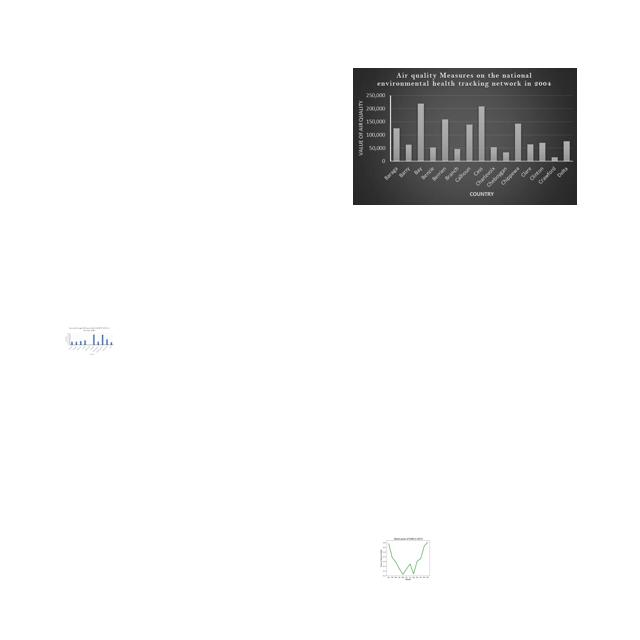Graph: (353, 68, 577, 205), (377, 535, 438, 581), (64, 326, 114, 356)
